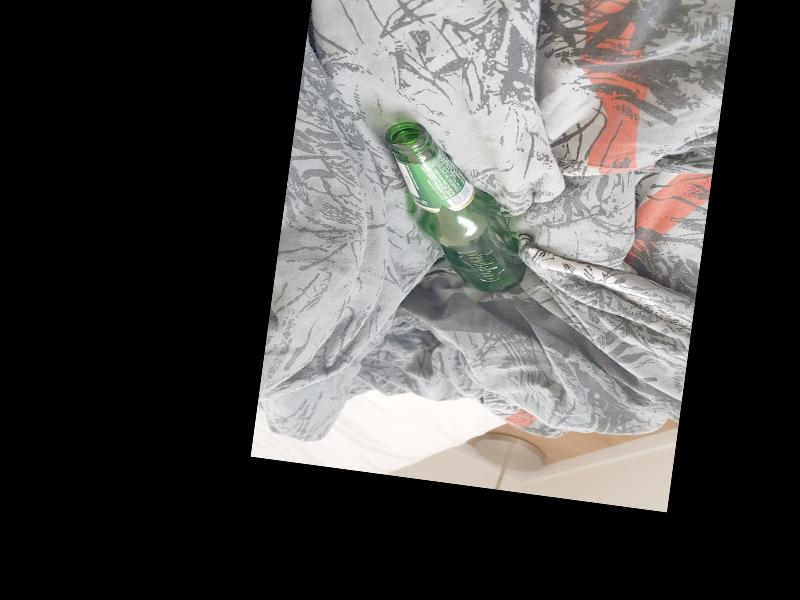Beer: (369, 117, 542, 296)
